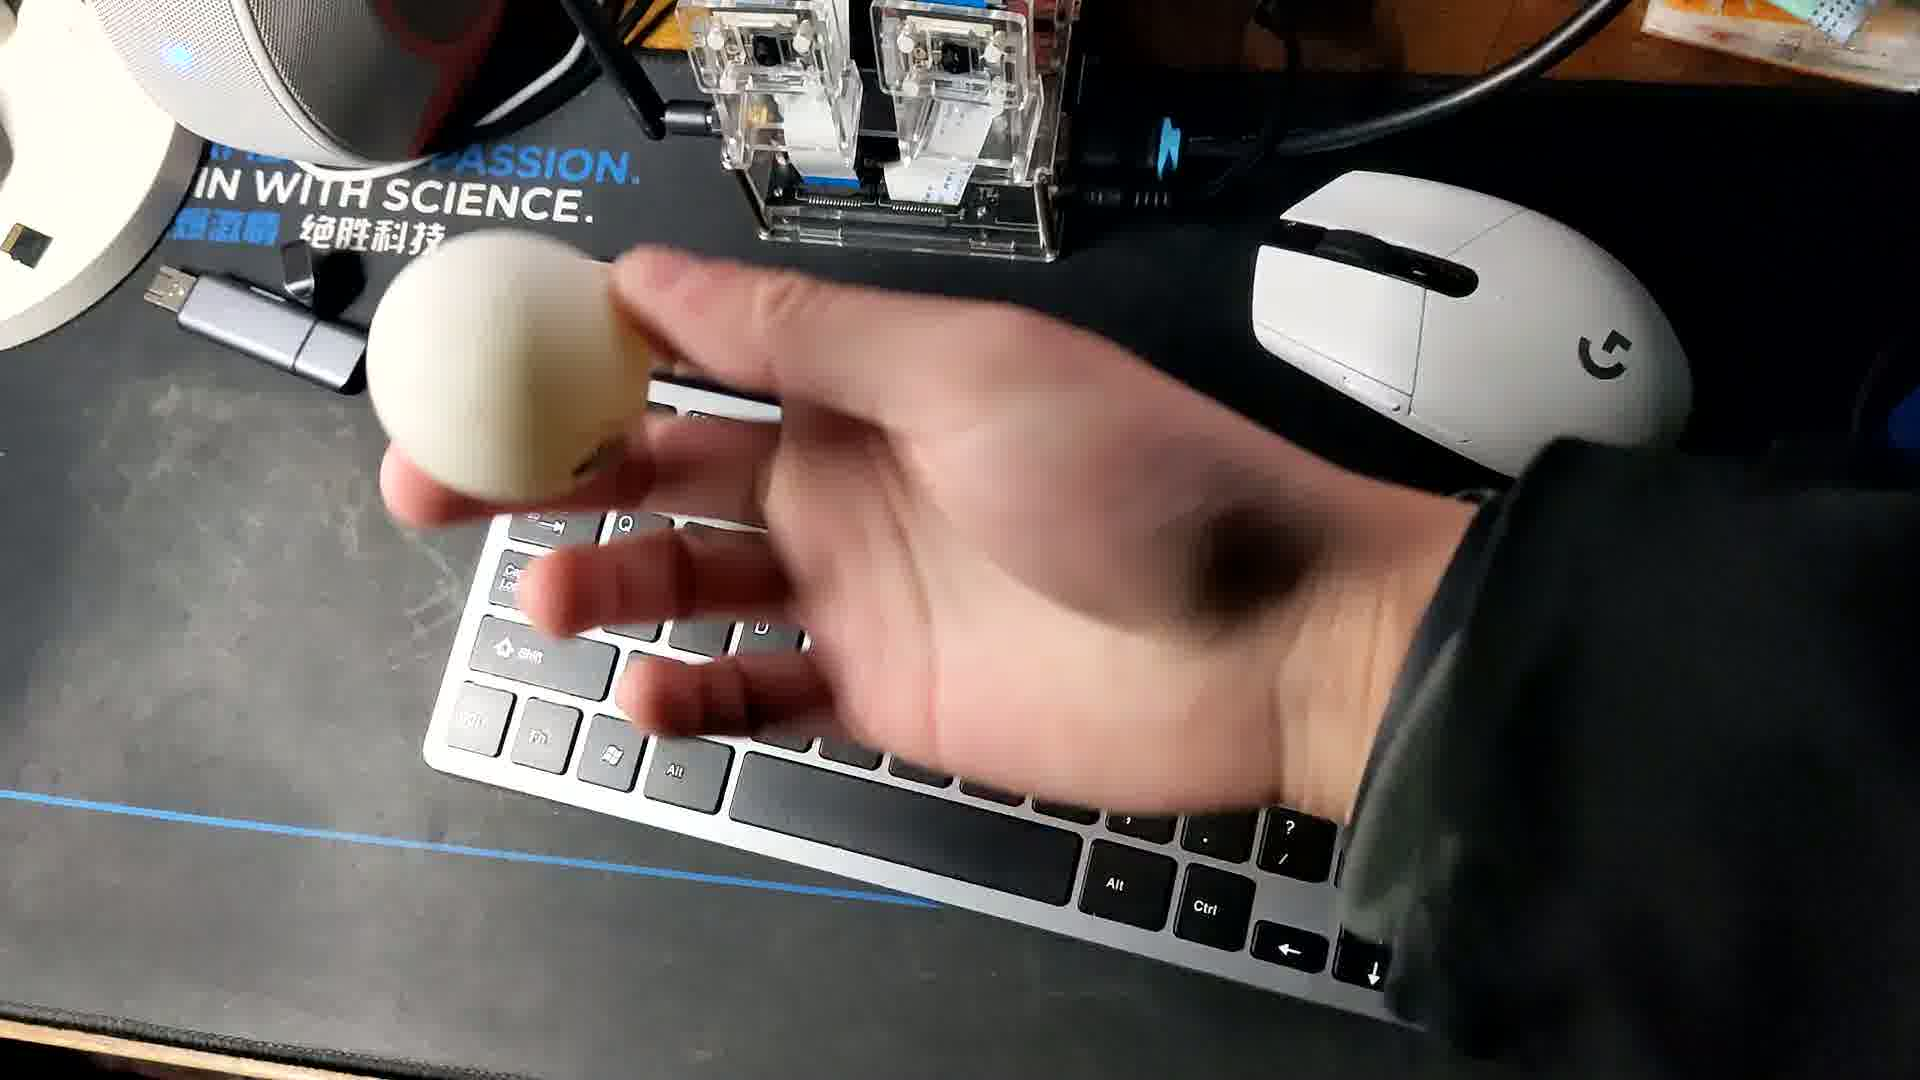Ball: (373, 225, 646, 505)
